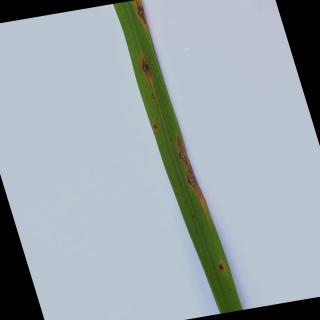Blast: (178, 134, 200, 192), (136, 0, 149, 28), (140, 56, 151, 78), (216, 260, 226, 274), (152, 124, 160, 130)
